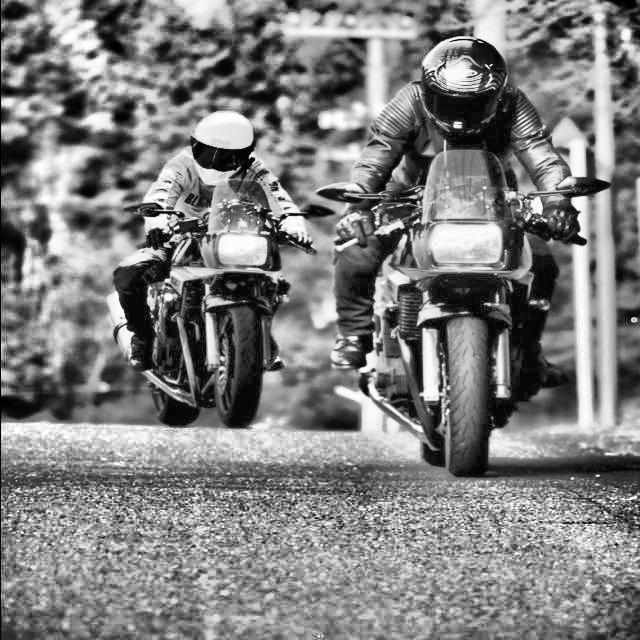Helmet: (416, 34, 512, 134), (186, 109, 258, 187)
